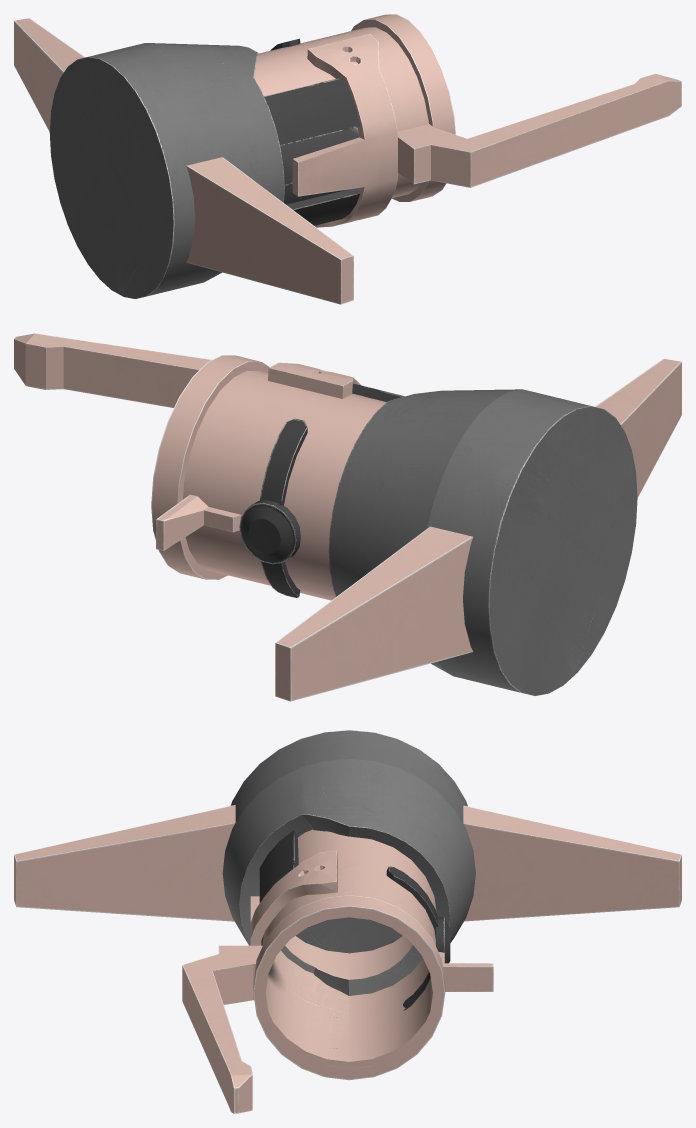
File: guard_18_r_c.glb
3 views of the same model, one above another, from view 1: azimuth 30°, elevation 25°; view 2: azimuth 150°, elevation 25°; view 3: azimuth 270°, elevation 25° (orthographic). The views are drawn at different scales.
Parts seen in each view (by area): view 1: guard_18_r_c_lod0; view 2: guard_18_r_c_lod0; view 3: guard_18_r_c_lod0.
Boxes of the visible parts, x1,y1,x2,y2 form: guard_18_r_c_lod0: (14, 14, 681, 304); guard_18_r_c_lod0: (14, 333, 681, 701); guard_18_r_c_lod0: (14, 730, 681, 1113).
Size of what is drawn, in the model's own units: 0.0879 by 0.0367 by 0.0968.
1 material, 1 textured.
